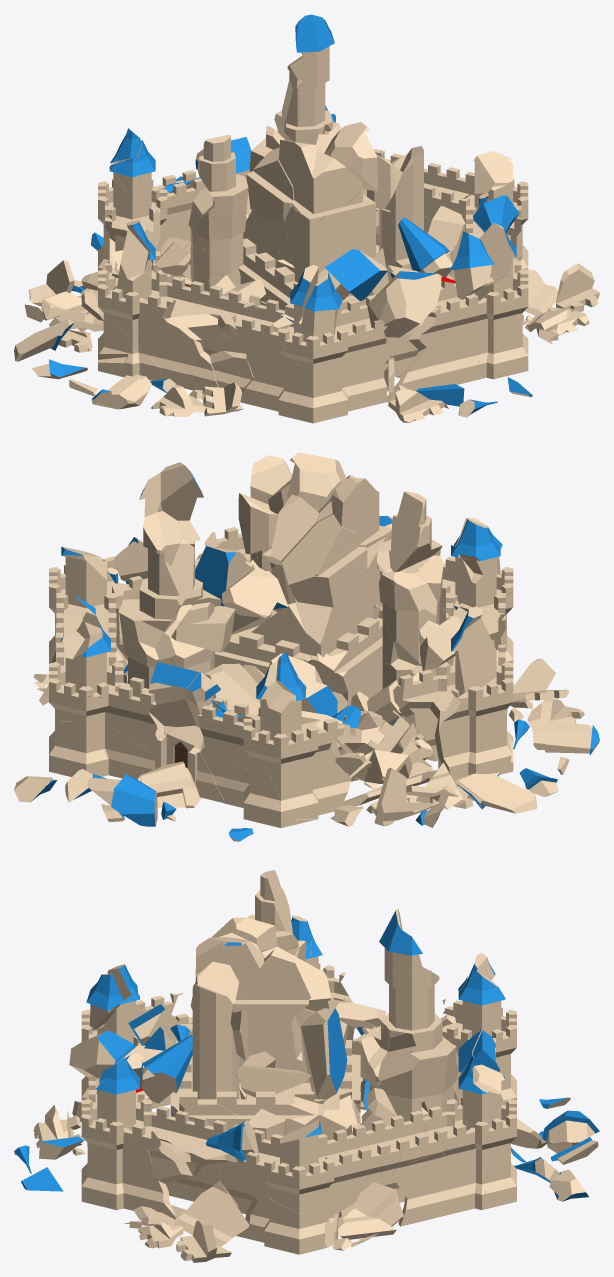
The model's file is BrokenCastle.fbx.
3 views of the same model, one above another, from view 1: azimuth 30°, elevation 25°; view 2: azimuth 150°, elevation 25°; view 3: azimuth 270°, elevation 25° (orthographic). The views are drawn at different scales.
Parts seen in each view (by area): view 1: BrokenCastle; view 2: BrokenCastle; view 3: BrokenCastle.
Part boxes in pixels (left/top/right/bottom): BrokenCastle: left=14, top=14, right=599, bottom=423; BrokenCastle: left=14, top=452, right=599, bottom=841; BrokenCastle: left=14, top=870, right=599, bottom=1262.
Bounding box in the file's own units: 1399 × 1390 × 703.
